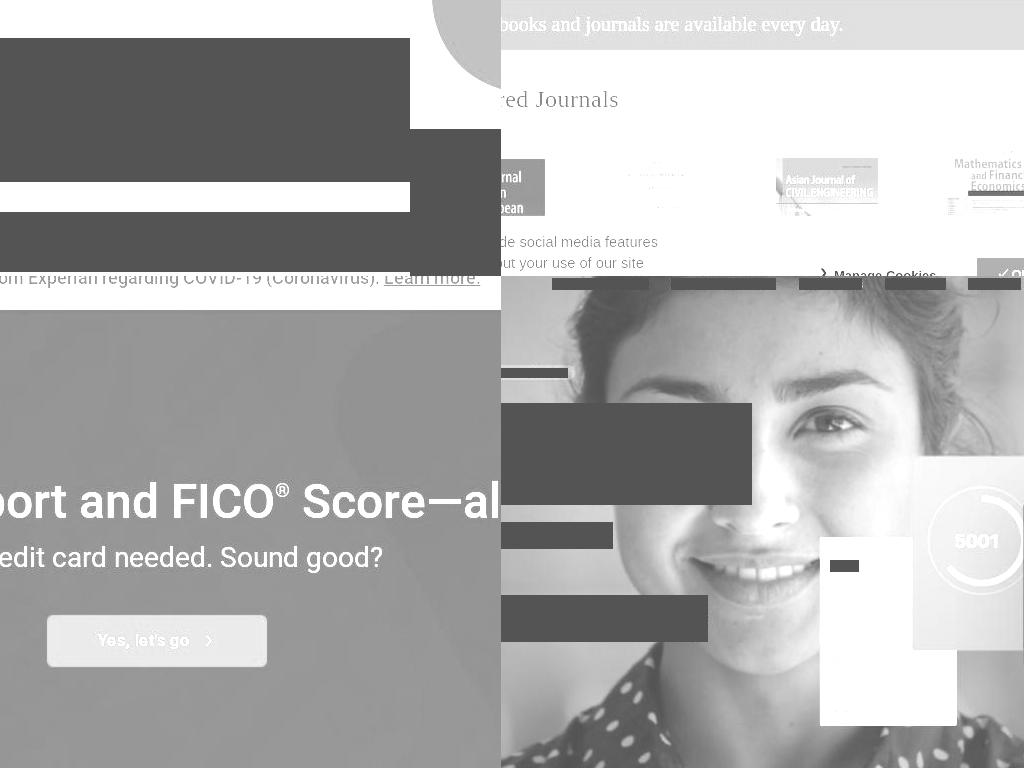button: (607, 147, 711, 276), (774, 156, 878, 276), (46, 615, 268, 667), (941, 147, 1024, 276), (501, 595, 708, 642), (501, 157, 544, 276), (833, 267, 937, 276)
heading: (0, 38, 410, 182), (501, 403, 752, 505), (0, 212, 410, 272), (0, 541, 501, 575), (0, 473, 275, 530), (501, 84, 1024, 113), (289, 473, 501, 530), (0, 276, 384, 288), (383, 276, 481, 288), (274, 478, 290, 502)
image: (607, 147, 711, 276), (774, 156, 878, 276), (941, 147, 1024, 276), (501, 157, 544, 276), (830, 597, 859, 626), (830, 668, 859, 697), (862, 606, 951, 614), (862, 652, 951, 660), (862, 677, 951, 685), (862, 561, 951, 568), (862, 582, 951, 589), (862, 631, 951, 638), (830, 648, 859, 667), (830, 579, 859, 594), (830, 629, 859, 644), (830, 560, 859, 572)
link: (671, 278, 776, 290), (552, 278, 649, 290), (799, 278, 862, 290), (885, 278, 946, 290), (968, 278, 1021, 290), (995, 266, 1024, 276)
text: (501, 12, 843, 35), (501, 234, 658, 276), (501, 522, 613, 549), (501, 612, 667, 626), (953, 525, 1024, 556), (840, 707, 953, 716), (501, 368, 568, 378), (834, 707, 841, 716)
